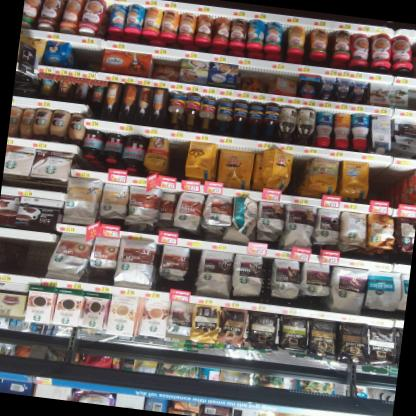empty_space: (369, 161, 408, 210), (164, 133, 189, 180), (19, 238, 49, 277), (74, 47, 101, 70), (408, 87, 416, 109)
